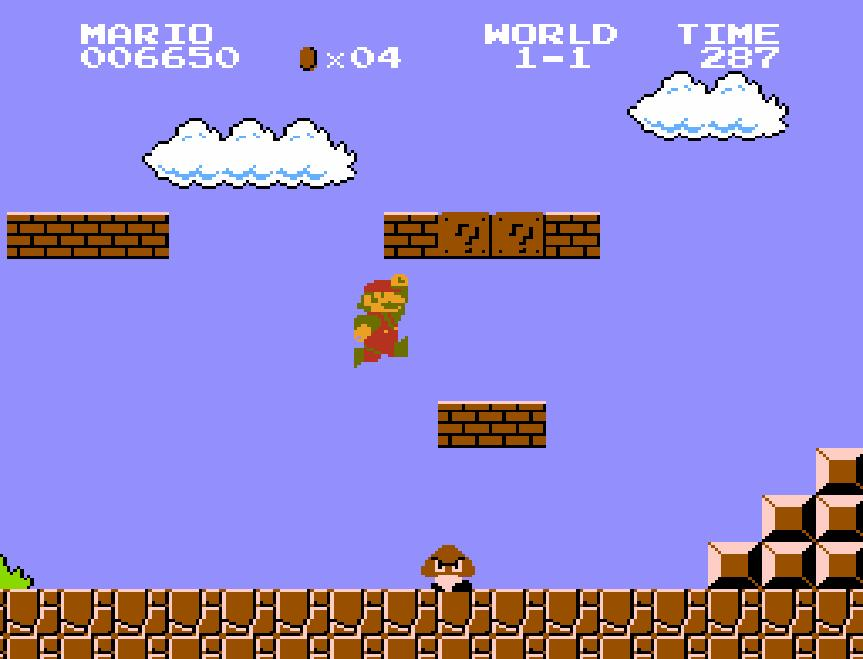big_mario: (352, 272, 410, 370)
